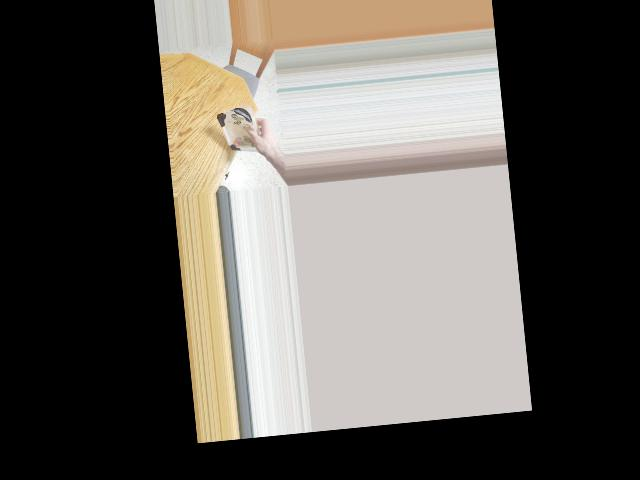cheese: (220, 102, 260, 157)
